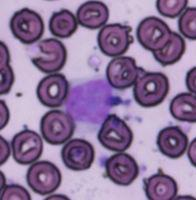L: (64, 76, 120, 126)
